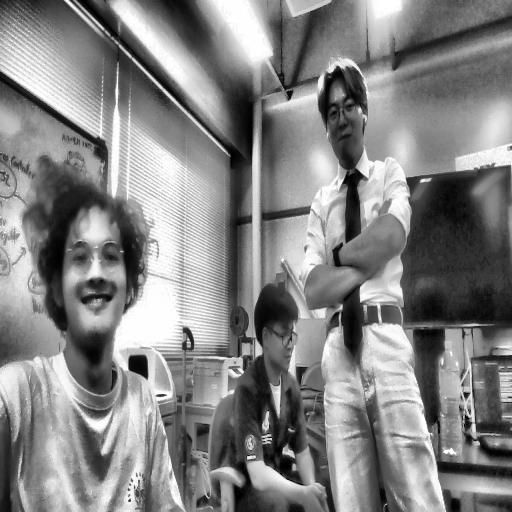Daifuku: (30, 164, 150, 352)
Not Daifuku: (318, 58, 368, 165), (254, 275, 296, 376)
